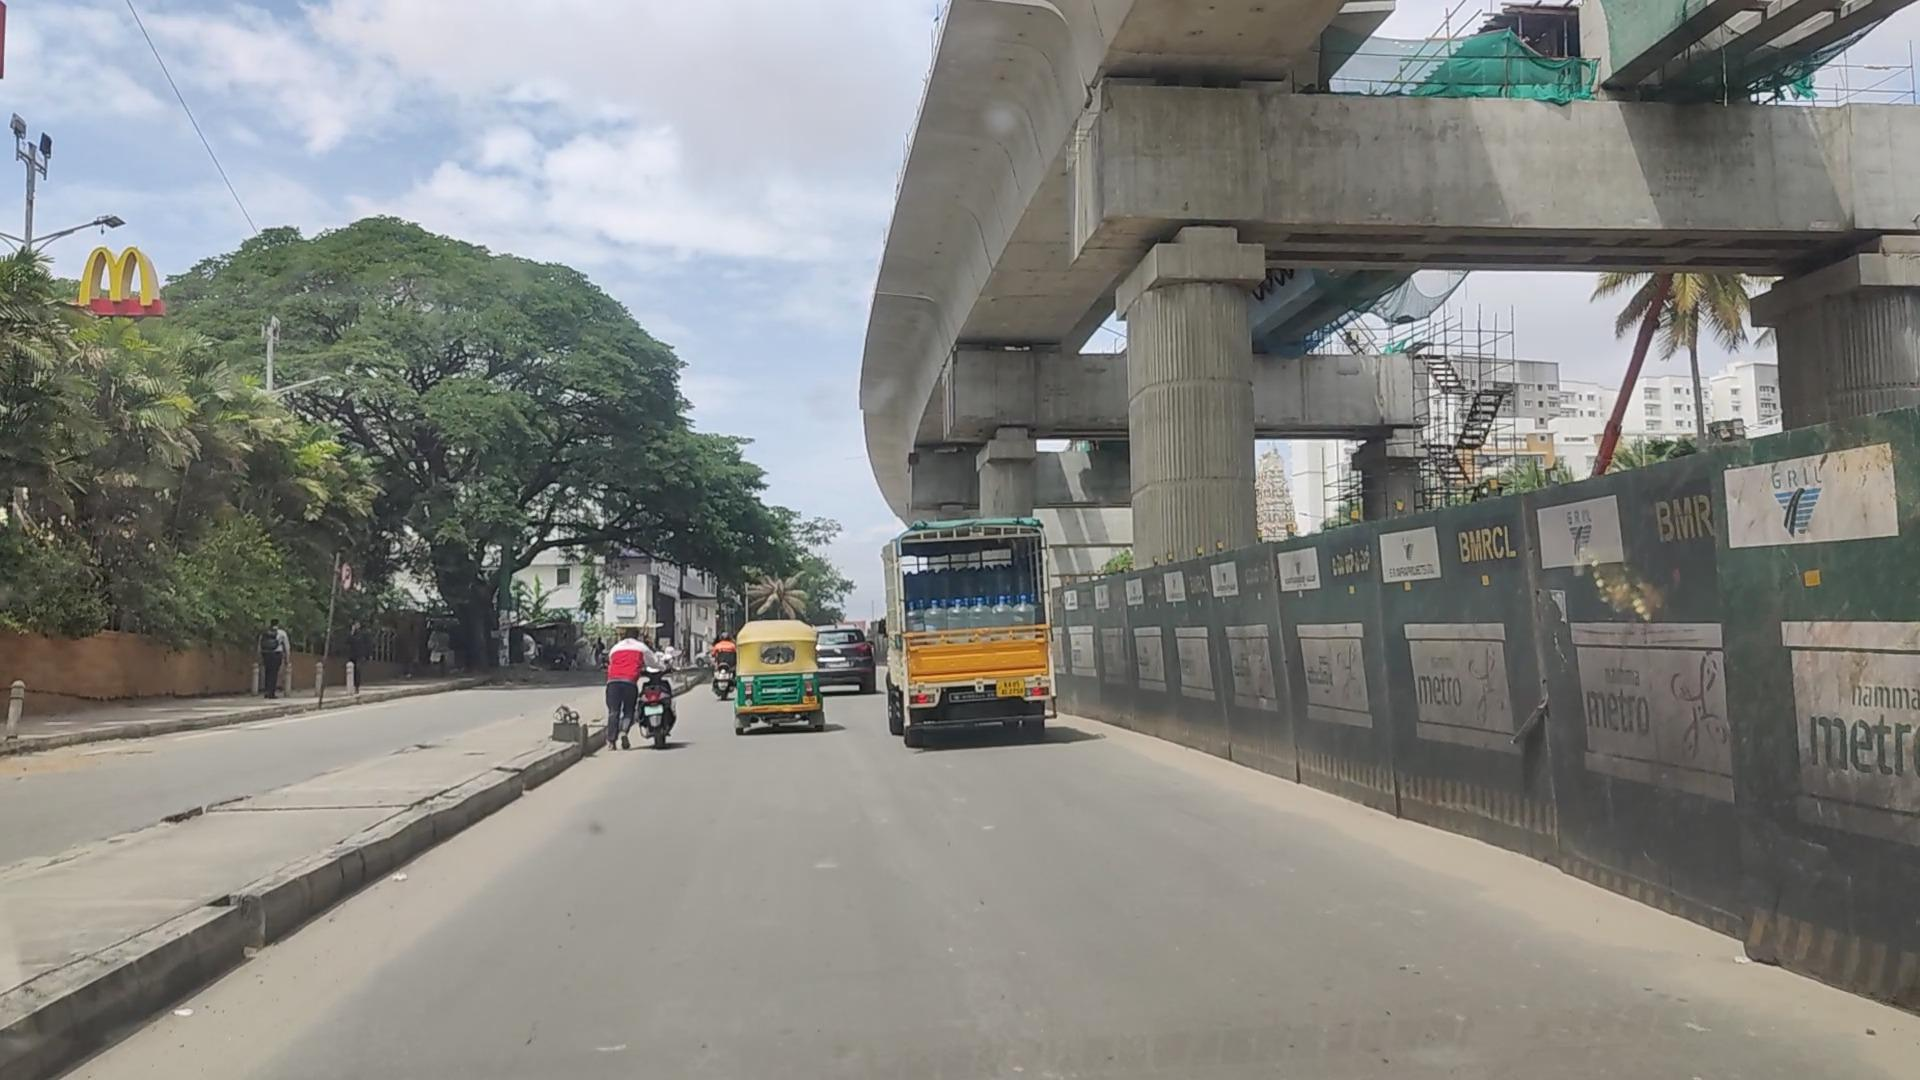HMV: (884, 512, 1058, 756)
LMV: (728, 615, 825, 732)
